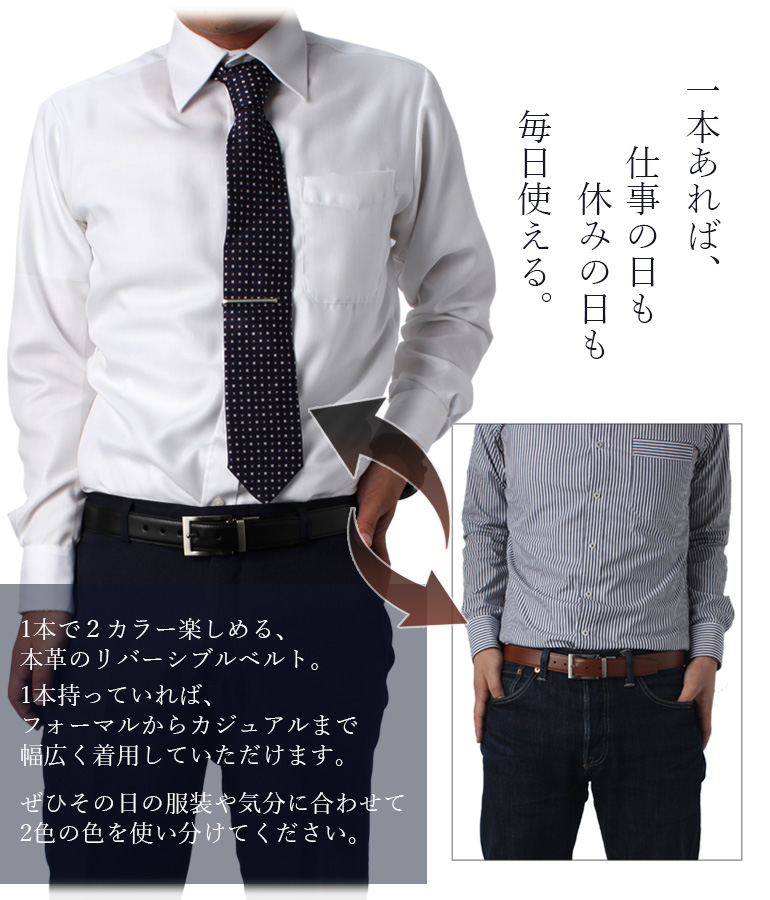F_belt: (77, 481, 340, 569), (503, 626, 685, 686)
F_shirt: (8, 26, 483, 545)
F_tie: (204, 58, 317, 492)
